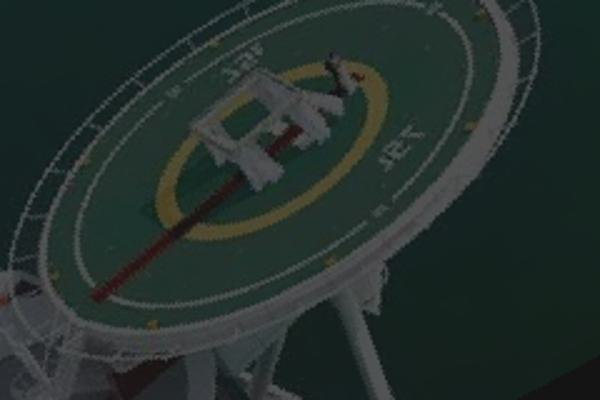Apron: (151, 53, 396, 245)
